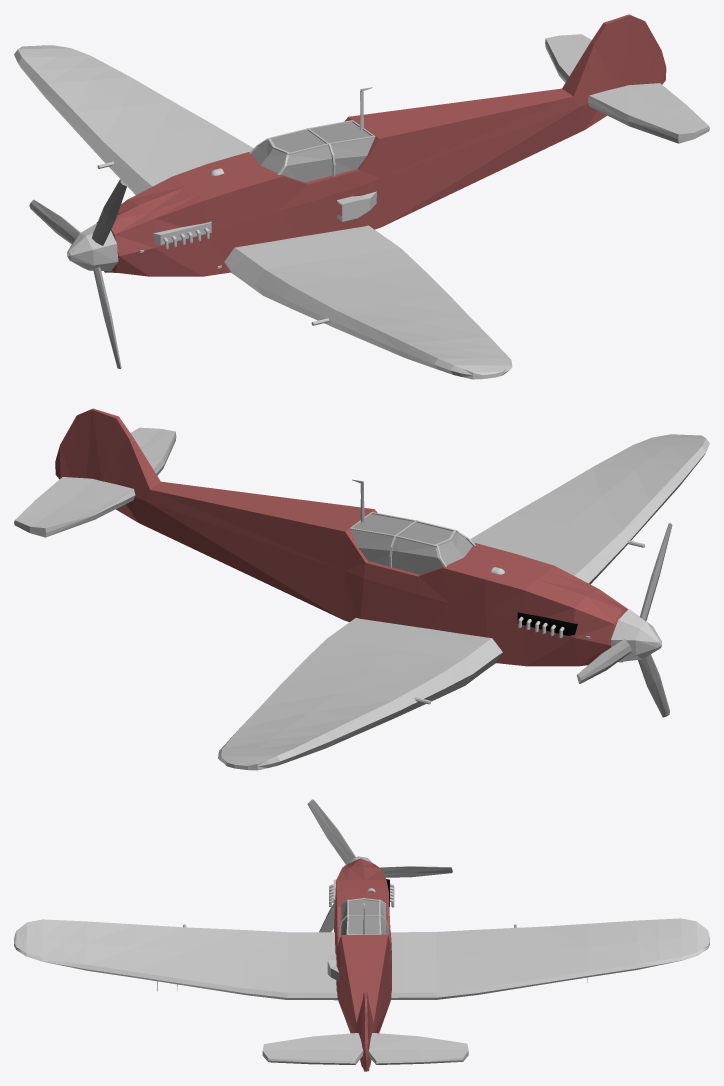
Rendered from fighter.obj.
3 views of the same model, one above another, from view 1: azimuth 30°, elevation 25°; view 2: azimuth 150°, elevation 25°; view 3: azimuth 270°, elevation 25° (orthographic). The views are drawn at different scales.
Parts seen in each view (by area): view 1: Cube.001_Cube.002, Cube.002_Cube.004, Cube.004_Cube.005, Cube.003_Cube.008, Cube.005_Cube.003, Cube, Plane, Cube.007_Cube.006, Cube.020_Cube.023; view 2: Cube.001_Cube.002, Cube.002_Cube.004, Cube.004_Cube.005, Cube.003_Cube.008, Cube.005_Cube.003, Cube, Plane, Cube.021_Cube.024; view 3: Cube.002_Cube.004, Cube.001_Cube.002, Cube.004_Cube.005, Cube.005_Cube.003, Cube.003_Cube.008.
Boxes of the visible parts, x1,y1,x2,y2 form: Cube.001_Cube.002: (97, 14, 666, 276); Cube.002_Cube.004: (14, 45, 512, 379); Cube.004_Cube.005: (545, 34, 709, 143); Cube.003_Cube.008: (252, 122, 374, 182); Cube.005_Cube.003: (29, 179, 126, 368); Cube: (67, 223, 118, 271); Plane: (249, 120, 375, 176); Cube.007_Cube.006: (336, 191, 376, 221); Cube.020_Cube.023: (152, 221, 211, 244); Cube.001_Cube.002: (55, 408, 628, 666); Cube.002_Cube.004: (218, 434, 709, 770); Cube.004_Cube.005: (14, 427, 176, 537); Cube.003_Cube.008: (350, 514, 472, 574); Cube.005_Cube.003: (577, 523, 672, 717); Cube: (611, 609, 661, 661); Plane: (349, 512, 475, 567); Cube.021_Cube.024: (517, 612, 577, 635); Cube.002_Cube.004: (14, 918, 709, 1000); Cube.001_Cube.002: (334, 858, 391, 1071); Cube.004_Cube.005: (262, 1033, 468, 1064); Cube.005_Cube.003: (307, 799, 452, 932); Cube.003_Cube.008: (341, 900, 386, 934).
Bounding box in the file's own units: 9.47 × 2.99 × 12.26.
